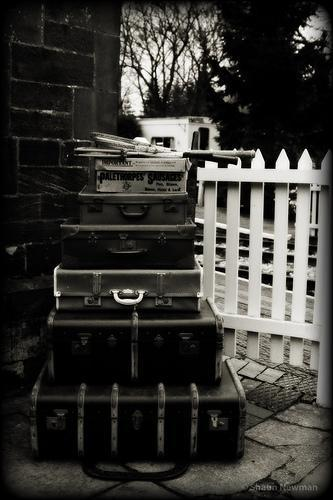truck: (140, 116, 222, 150)
